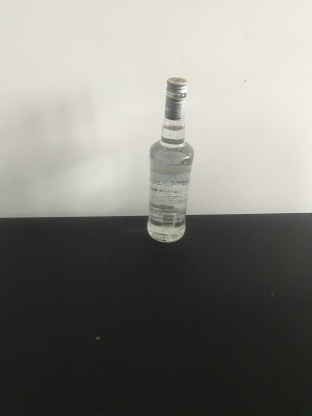nakretka: (163, 74, 188, 119)
